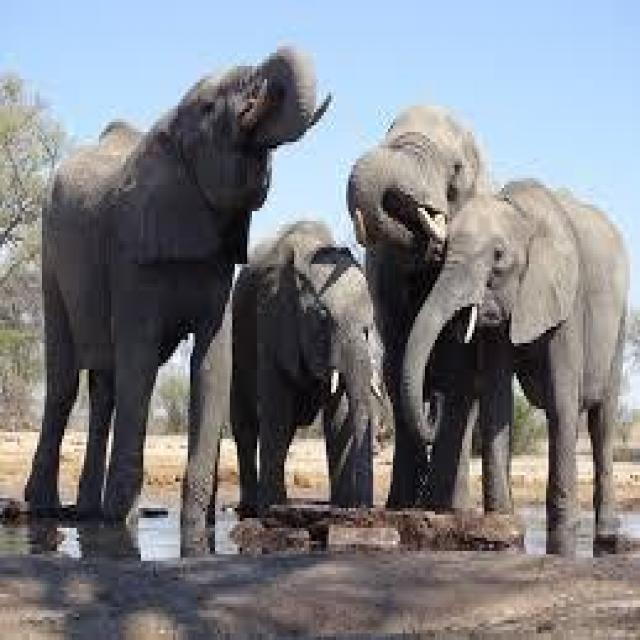Elephant: (7, 39, 319, 514), (425, 171, 628, 551), (232, 221, 378, 508)
